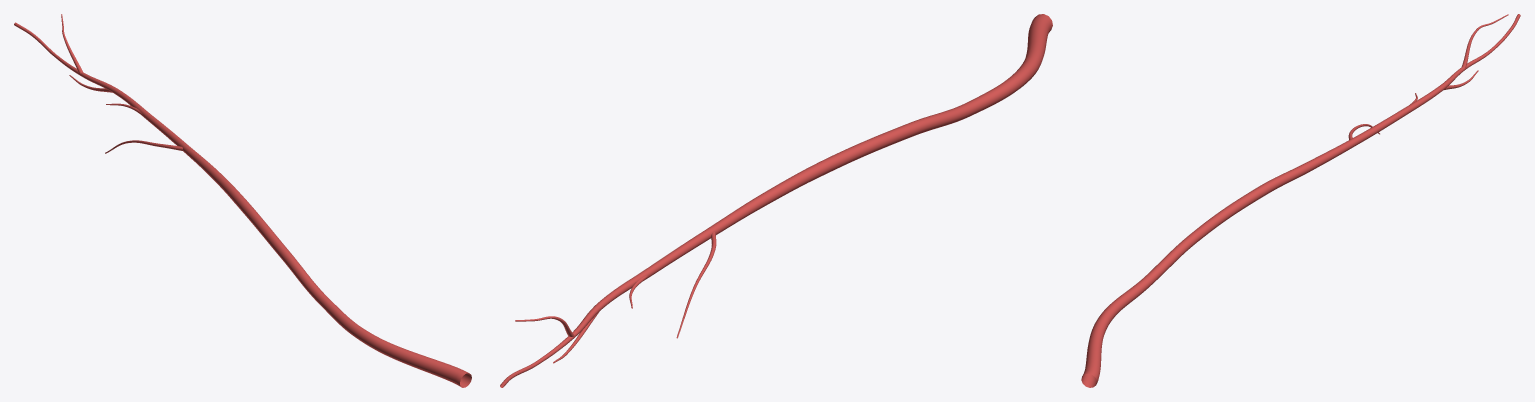
The picture shows the model from 3 angles, left to right: view 1: azimuth 30°, elevation 25°; view 2: azimuth 150°, elevation 25°; view 3: azimuth 330°, elevation 25°; orthographic projection. The views are drawn at different scales.
Parts seen in each view (by area): view 1: 右侧腓动脉; view 2: 右侧腓动脉; view 3: 右侧腓动脉.
Part boxes in pixels (left/top/right/bottom): 右侧腓动脉: left=14, top=14, right=471, bottom=387; 右侧腓动脉: left=500, top=14, right=1052, bottom=387; 右侧腓动脉: left=1081, top=14, right=1520, bottom=387.
Bounding box in the file's own units: 0.0343 × 0.0429 × 0.4722.
